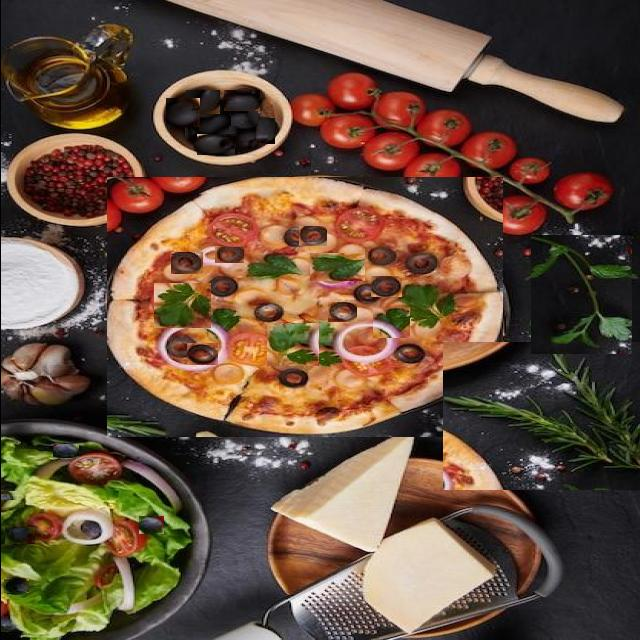basil: (442, 342, 640, 490), (530, 235, 631, 354), (153, 283, 210, 328), (266, 323, 318, 368), (309, 253, 364, 281), (372, 308, 409, 338)
olive: (183, 114, 230, 139), (165, 98, 199, 127), (223, 90, 259, 113), (185, 90, 219, 114), (196, 134, 233, 155), (184, 343, 217, 365), (170, 252, 202, 274), (247, 118, 274, 144), (223, 111, 257, 131), (370, 276, 401, 297), (227, 126, 254, 148), (327, 302, 356, 322), (298, 226, 326, 246), (304, 368, 329, 389), (4, 527, 34, 544), (229, 284, 255, 303), (214, 247, 243, 263), (138, 516, 163, 534), (3, 578, 28, 593), (52, 444, 78, 458), (0, 491, 16, 500)
pizza: (106, 177, 502, 437)
